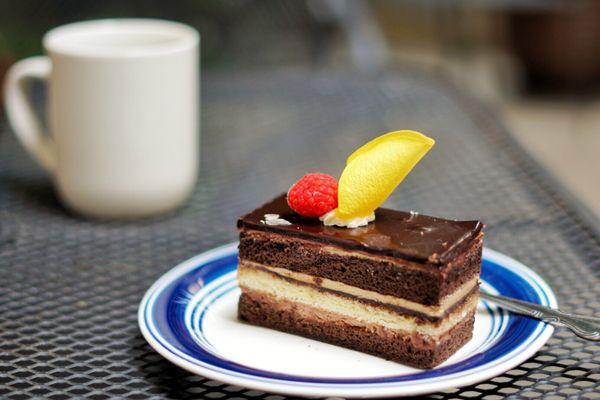burger: (478, 285, 600, 341)
